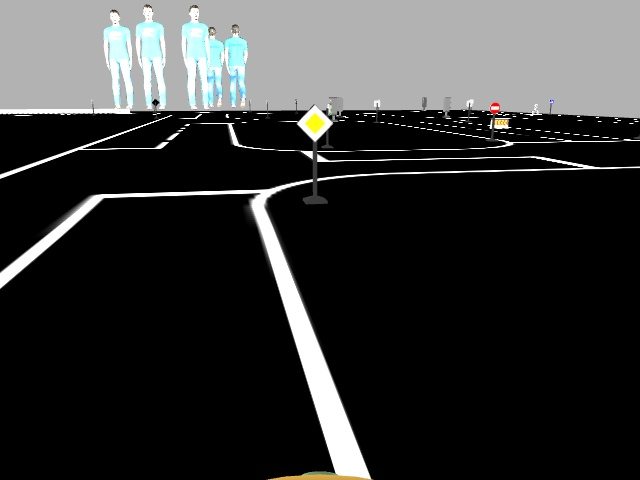ClosedRoadStand: (490, 117, 509, 128)
NoEntry: (488, 101, 501, 114)
Priority: (290, 103, 334, 142)
